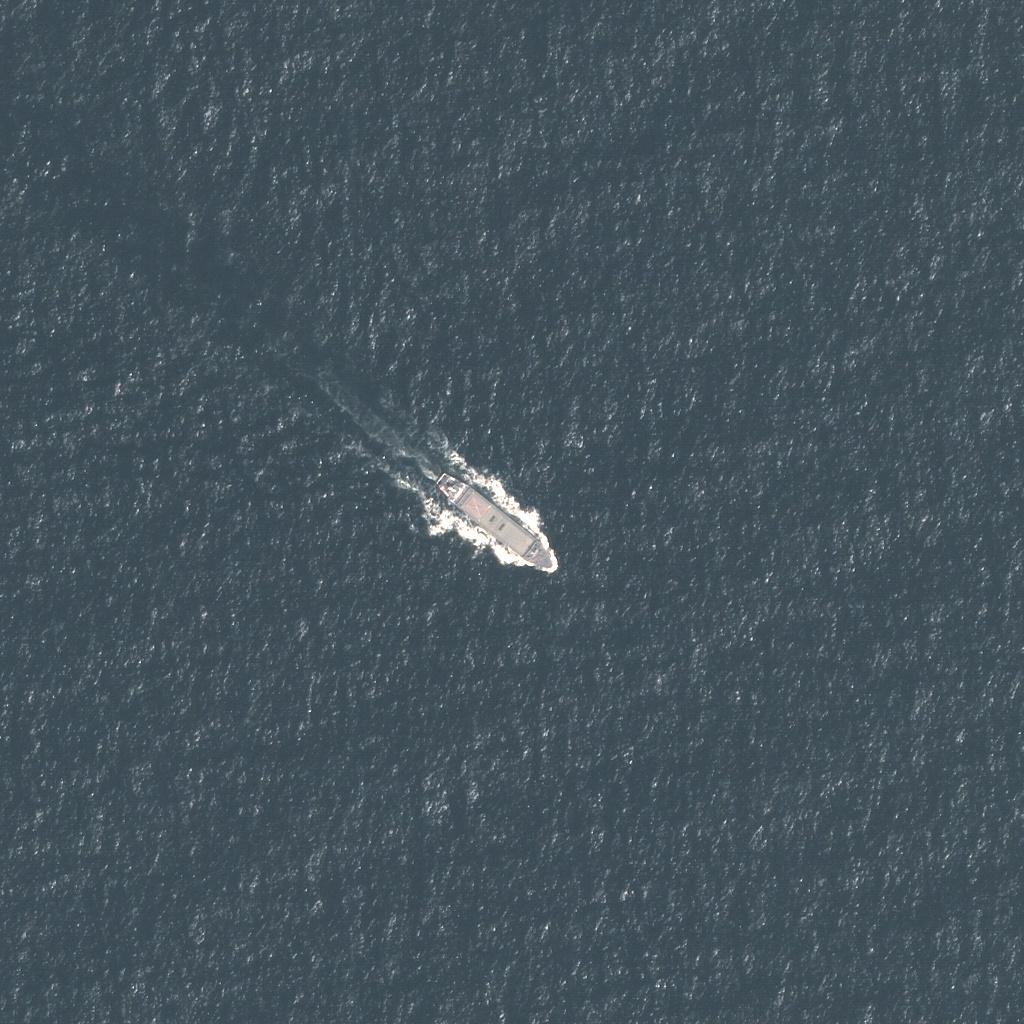ship: (433, 461, 559, 578)
